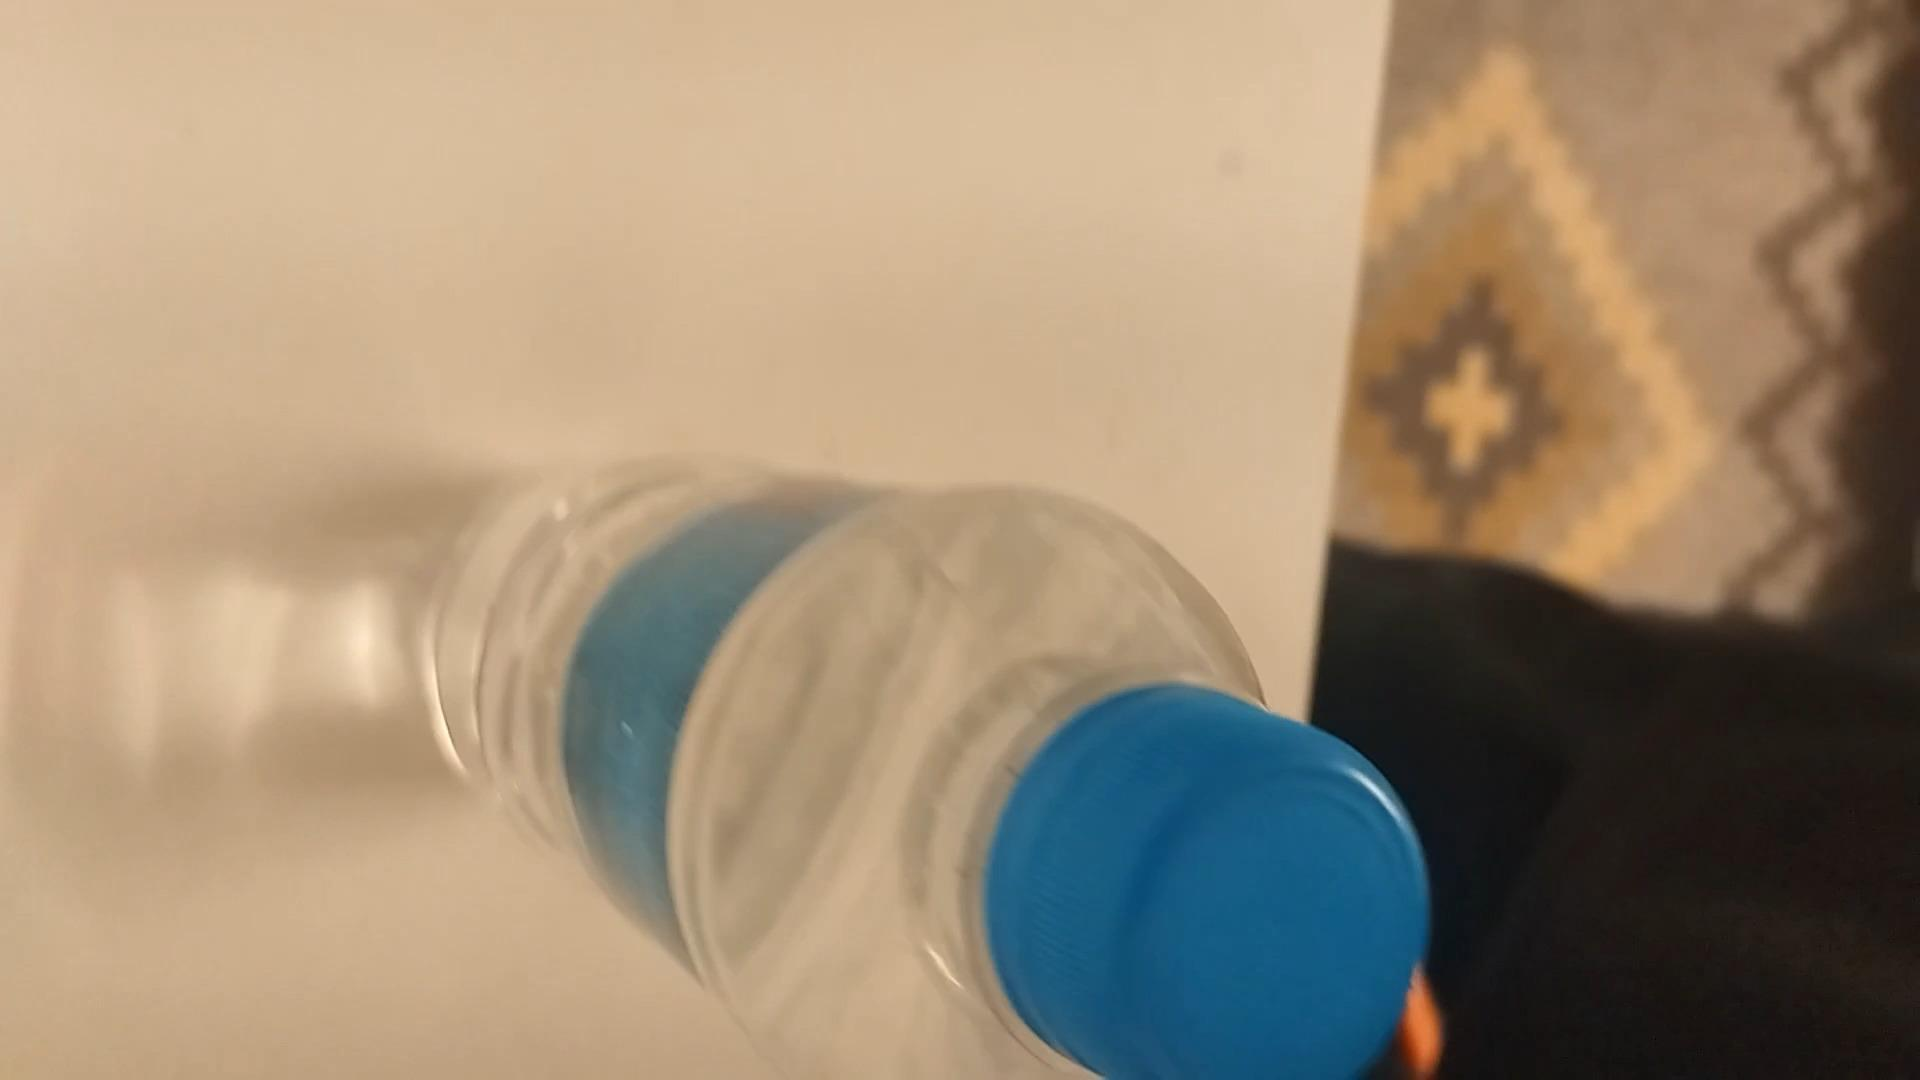agua: (429, 459, 1407, 1076)
